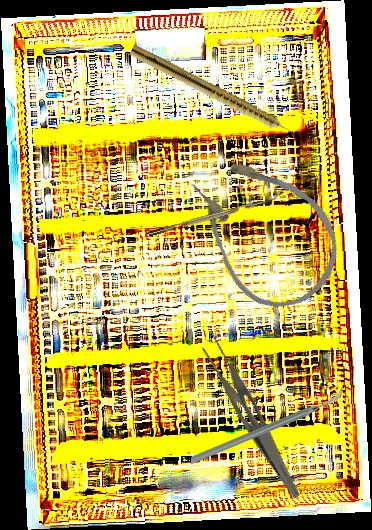Cannula: (168, 129, 361, 329)
Chopper: (191, 385, 343, 465), (145, 189, 283, 237)
Dressing Forceps: (190, 330, 318, 500)
Handpiece: (127, 44, 299, 142)
